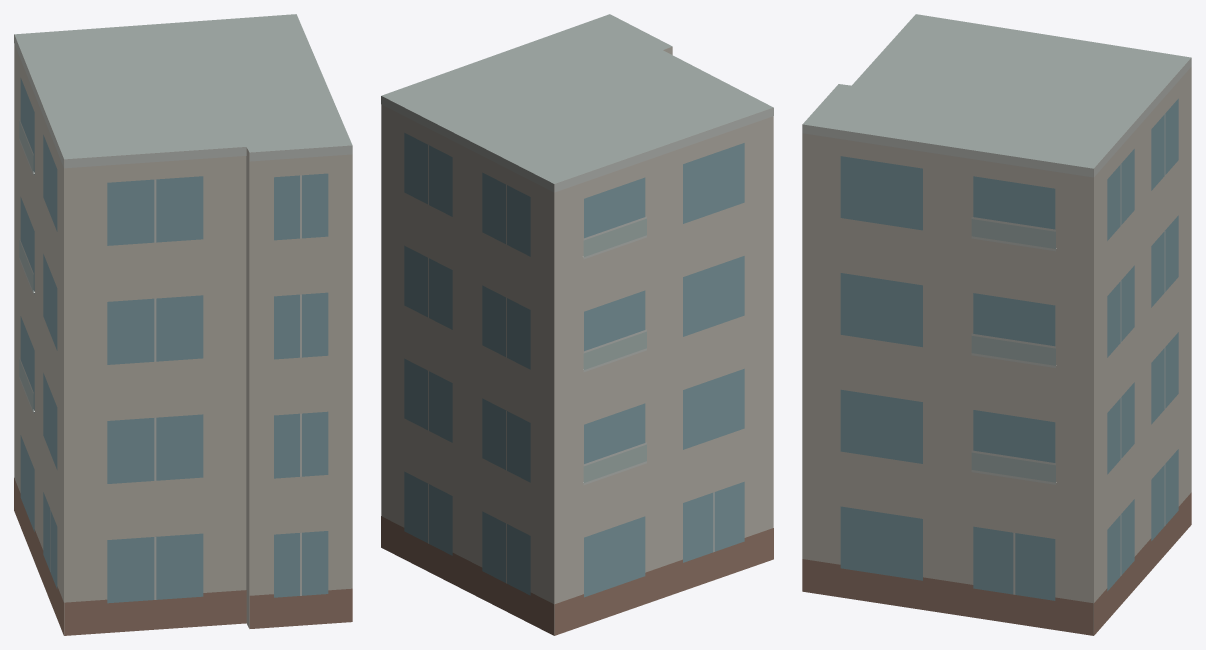
File: survey-upis-32537068.glb
3 renders of one model, left to right at view 1: azimuth 30°, elevation 25°; view 2: azimuth 150°, elevation 25°; view 3: azimuth 270°, elevation 25°, orthographic. The views are drawn at different scales.
Visible parts, largest first — view 1: survey-upis-32537068.tmp; view 2: survey-upis-32537068.tmp; view 3: survey-upis-32537068.tmp.
Part boxes in pixels (<box>): survey-upis-32537068.tmp: <box>14,14,352,635</box>; survey-upis-32537068.tmp: <box>381,14,773,635</box>; survey-upis-32537068.tmp: <box>802,14,1191,635</box>.
Bounding box in the file's own units: 9.17 × 12.9 × 9.75.
